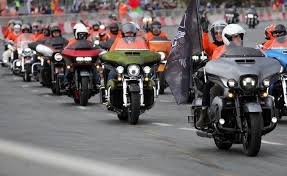Motorbike: (194, 44, 283, 156), (101, 32, 161, 124), (62, 35, 103, 106), (28, 36, 68, 94)
